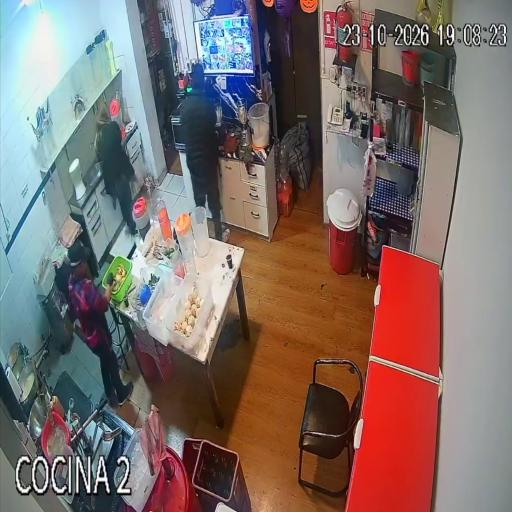Balde: (248, 102, 270, 150)
CajaCerveza: (183, 439, 251, 512)
Envase Llajua: (52, 395, 64, 418)
Jarra1: (133, 197, 151, 240)
Jarra2: (175, 213, 194, 259)
Jarra3: (190, 207, 210, 257)
Licuadora: (214, 100, 226, 145)
Licuadora2: (238, 99, 252, 147)
Microondas: (171, 104, 186, 151)
Persona1: (181, 64, 222, 239)
Persona2: (94, 105, 136, 235)
Persona4: (67, 241, 132, 404)
Taper: (102, 256, 132, 302)
Taper2: (126, 266, 172, 328)
Taper3: (143, 271, 183, 345)
Taper4: (166, 273, 214, 363)
Taper5: (114, 429, 158, 512)
